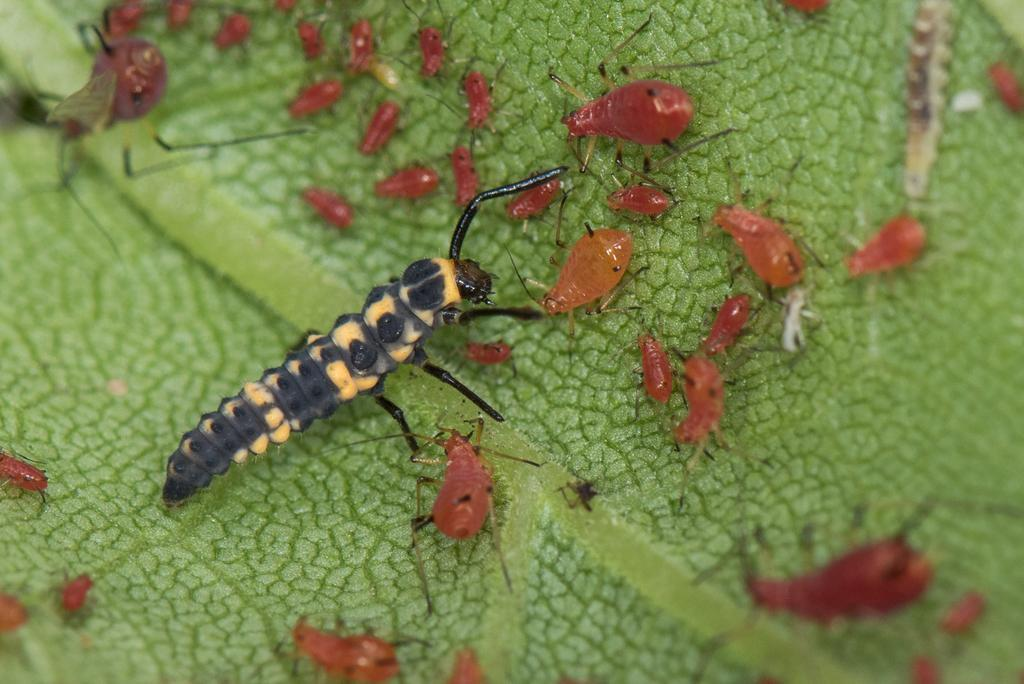ladybug: (161, 163, 577, 509)
